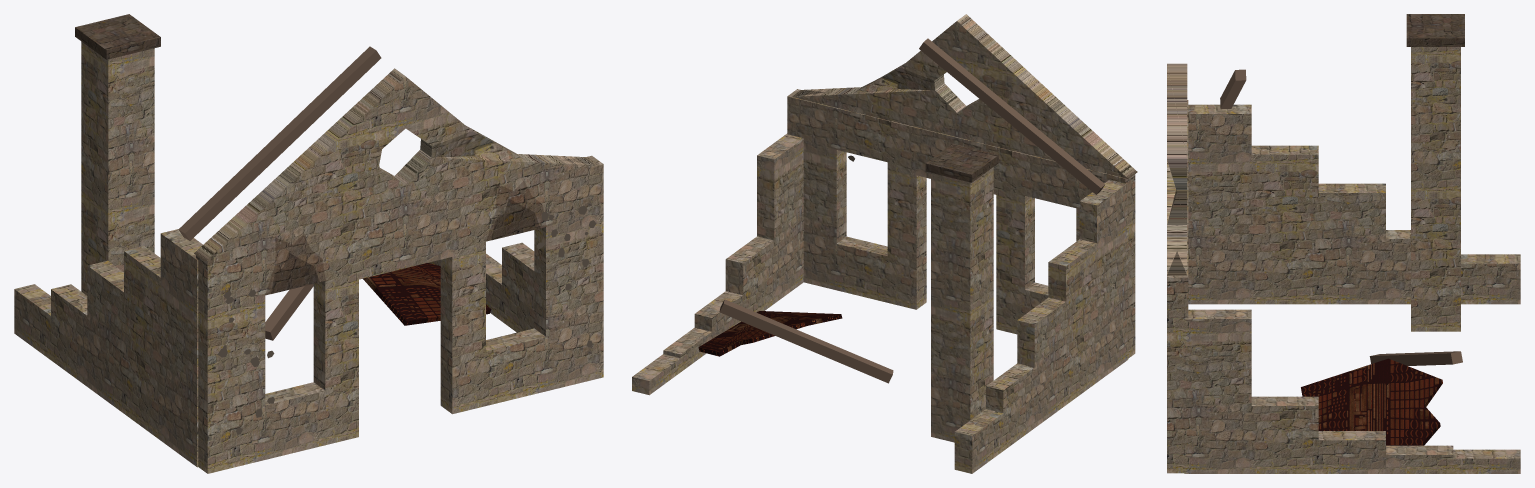
The model's file is drvar-collapsed-house.glb.
3 views of the same model, side by side, from view 1: azimuth 30°, elevation 25°; view 2: azimuth 150°, elevation 25°; view 3: azimuth 270°, elevation 25° (orthographic). The views are drawn at different scales.
Parts seen in each view (by area): view 1: Shrapnel pit in stone.029; view 2: Shrapnel pit in stone.029; view 3: Shrapnel pit in stone.029.
Boxes of the visible parts, x1,y1,x2,y2 form: Shrapnel pit in stone.029: (14, 14, 603, 473); Shrapnel pit in stone.029: (632, 14, 1137, 473); Shrapnel pit in stone.029: (1167, 14, 1520, 473).
Size of the model in its own units: 7.07 by 5.9 by 5.9.
Materials: 6 (4 with a texture image).
